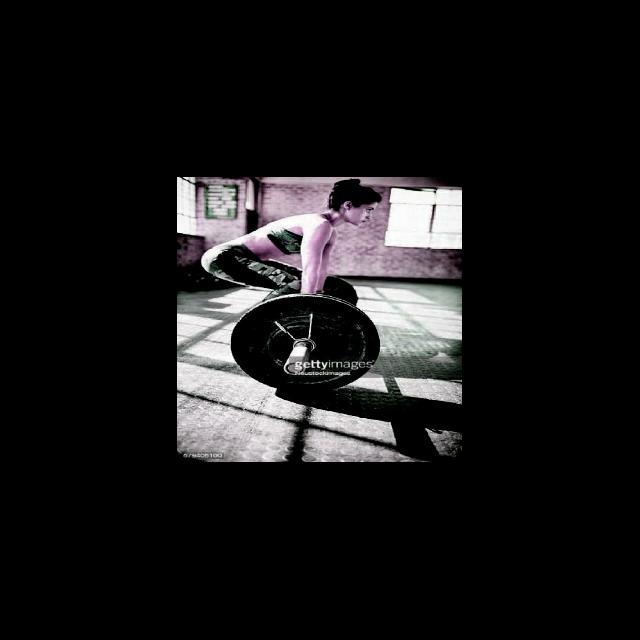barbell: (229, 292, 382, 399)
